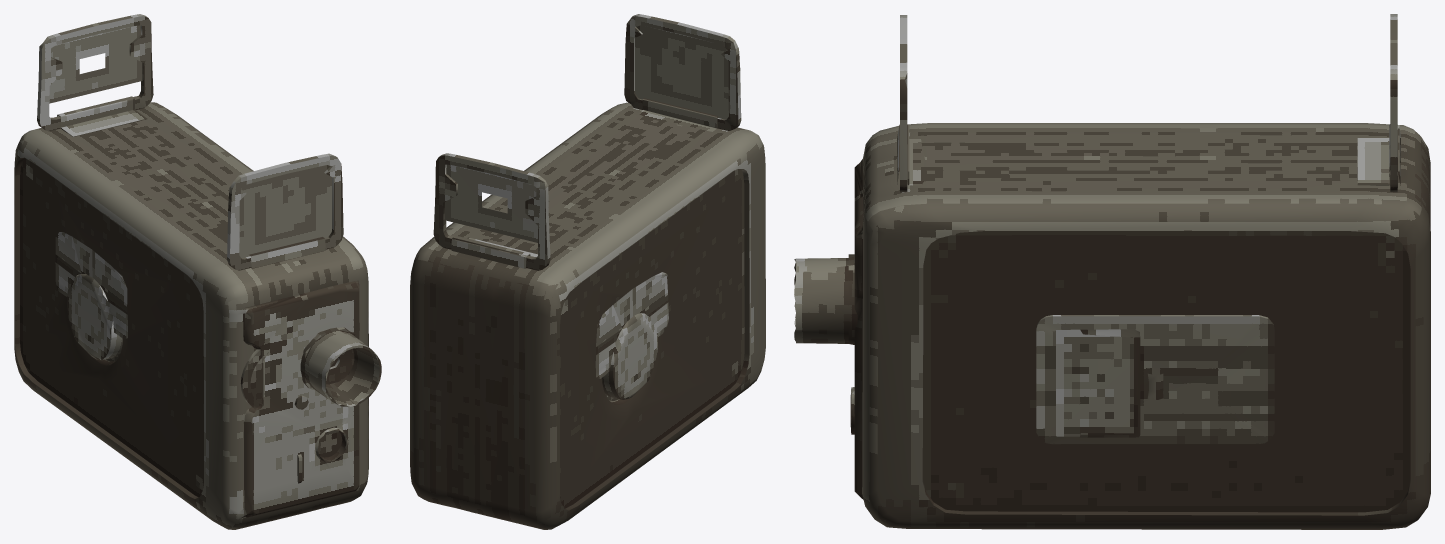
File: camera_retro.glb
3 views of the same model, side by side, from view 1: azimuth 30°, elevation 25°; view 2: azimuth 150°, elevation 25°; view 3: azimuth 270°, elevation 25° (orthographic). The views are drawn at different scales.
Visible parts, largest first — view 1: mesh; view 2: mesh; view 3: mesh.
Part boxes in pixels (x1=…): mesh: x1=14, y1=14, x2=381, y2=529; mesh: x1=410, y1=14, x2=765, y2=529; mesh: x1=794, y1=14, x2=1430, y2=529.
Size of the model in its own units: 0.0448 by 0.1 by 0.1283.
1 material, 1 textured.
